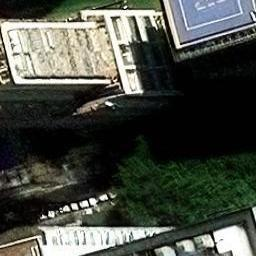heliponto: (179, 0, 243, 30)
